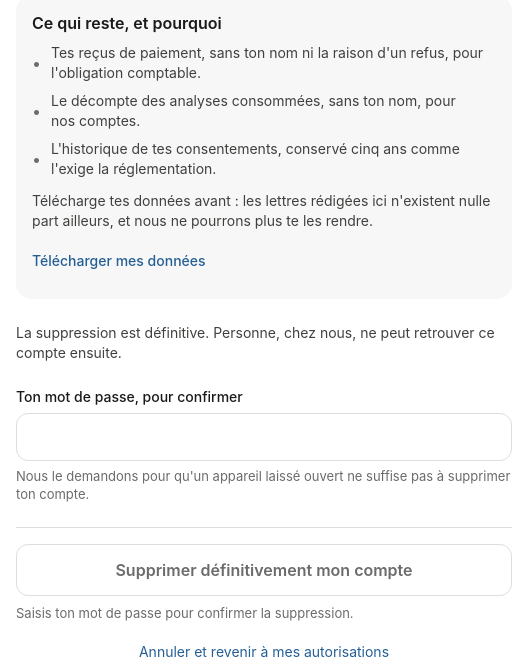
Test case: Suppression de compte › rend le mot de passe refusé actionnable, sans supprimer quoi que ce soit
(page scrolled)
In the password field labelled "Ton mot de passe, pour confirmer": (264, 437) [16, 413, 512, 461], type "faux"
(page scrolled)
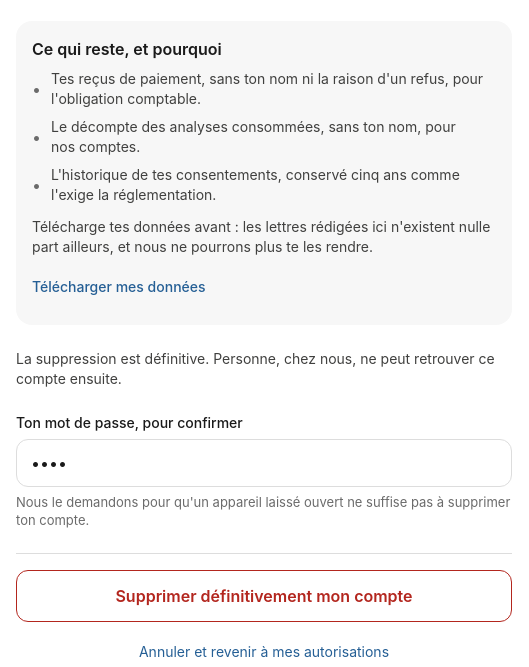
Click the button "Supprimer définitivement mon compte": (264, 596) [16, 570, 512, 622]
(page scrolled)
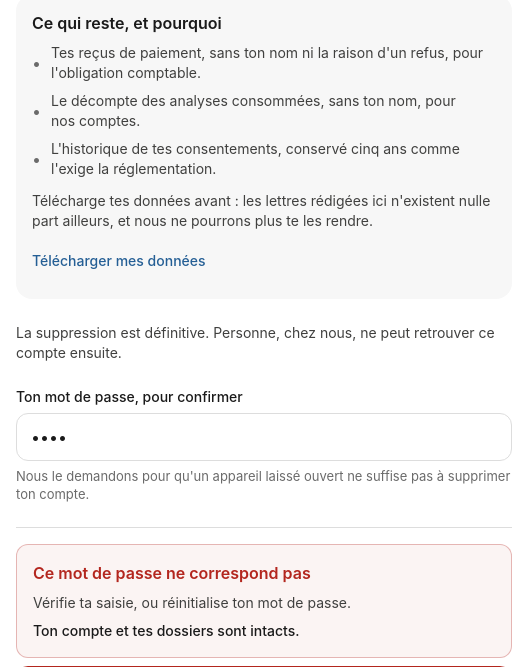
Expected: the message shows "Ton compte et tes dossiers sont intacts.", [33, 622, 300, 639]
